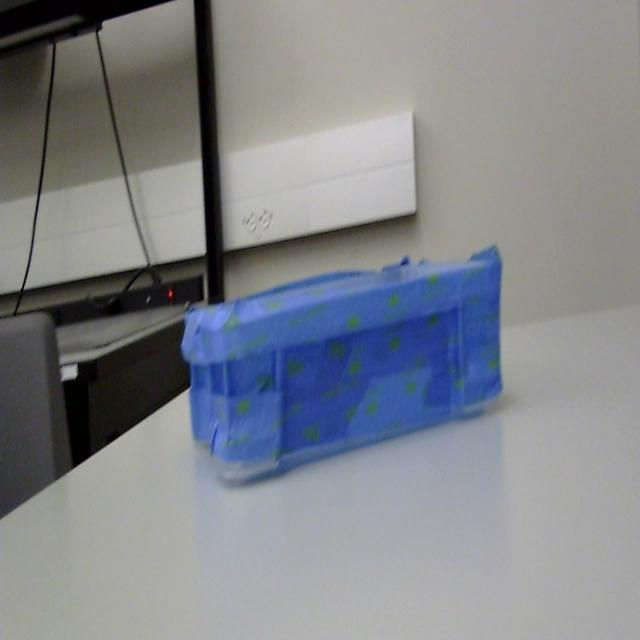bucket: (180, 239, 504, 490)
